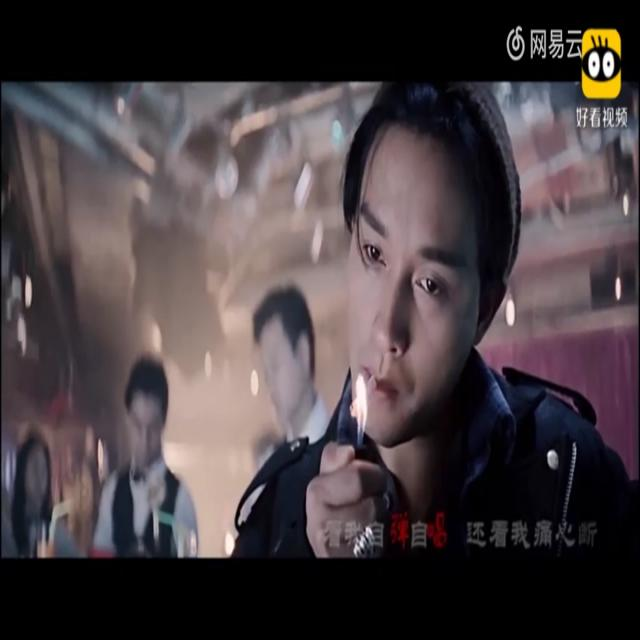smoke: (351, 373, 377, 423)
